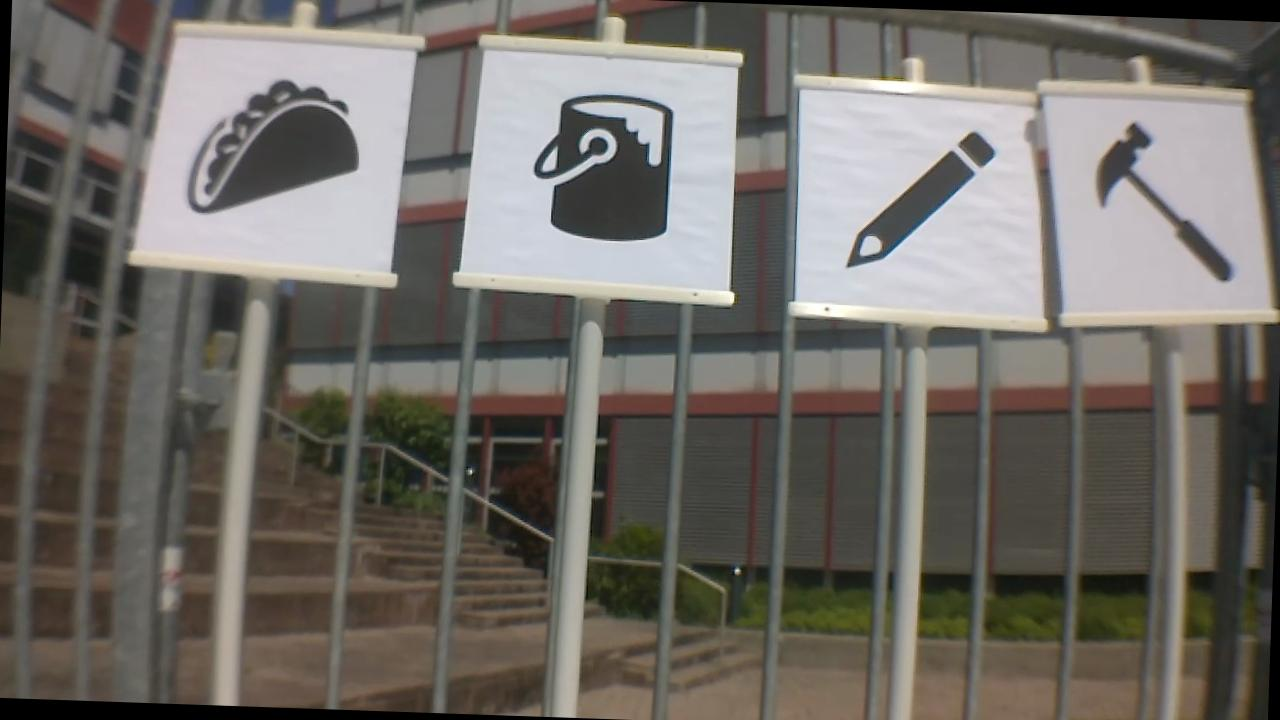bucket: (524, 83, 681, 247)
hammer: (1089, 124, 1244, 279)
pencil: (842, 121, 1003, 279)
taco: (183, 78, 367, 221)
